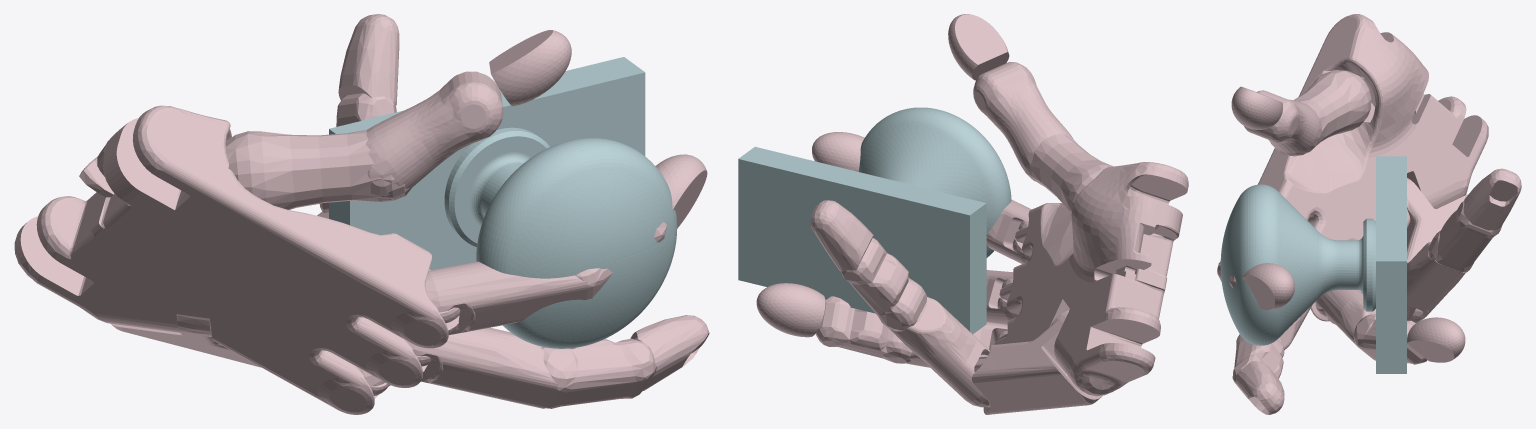
File: grasp_5.glb
3 views of the same model, side by side, from view 1: azimuth 30°, elevation 25°; view 2: azimuth 150°, elevation 25°; view 3: azimuth 270°, elevation 25° (orthographic). The views are drawn at different scales.
Visible parts, largest first — view 1: world; view 2: world; view 3: world.
Boxes of the visible parts, box(x1,y1,x2,y2) form: world: box(14, 14, 709, 414); world: box(738, 14, 1188, 414); world: box(1217, 14, 1521, 414).
Bounding box in the file's own units: 0.1918 × 0.1274 × 0.1226.
